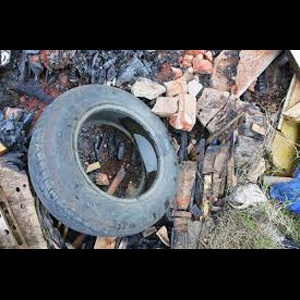tire: (28, 84, 177, 237)
